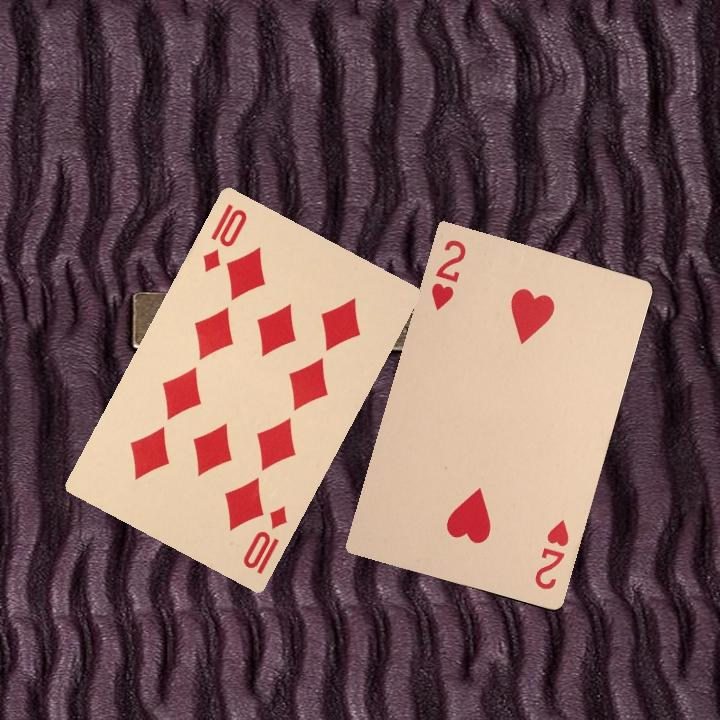10d: (198, 199, 250, 275), (238, 501, 290, 577)
2h: (427, 235, 469, 313), (530, 516, 572, 592)
